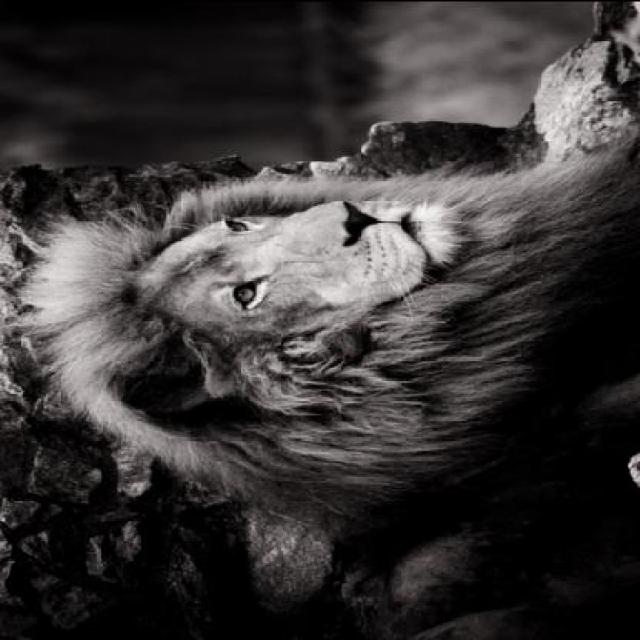Lion: (0, 87, 638, 638)
